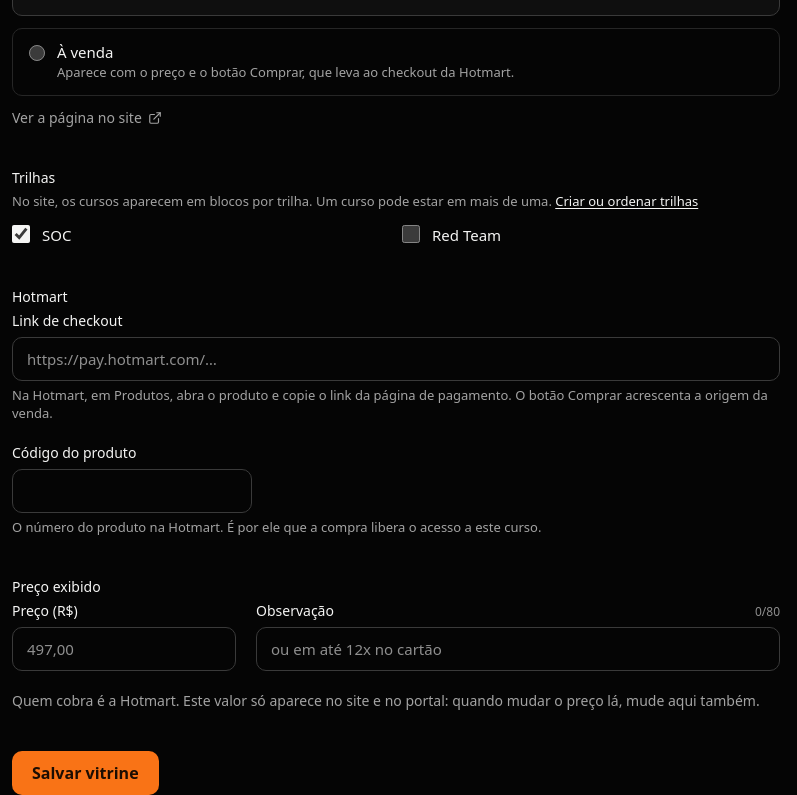
vitrine no painel › mostra o erro do banco na voz do painel
(page scrolled)
Click the button "Salvar vitrine" at coordinates (85, 773), box x1=12 y1=751 x2=159 y2=794
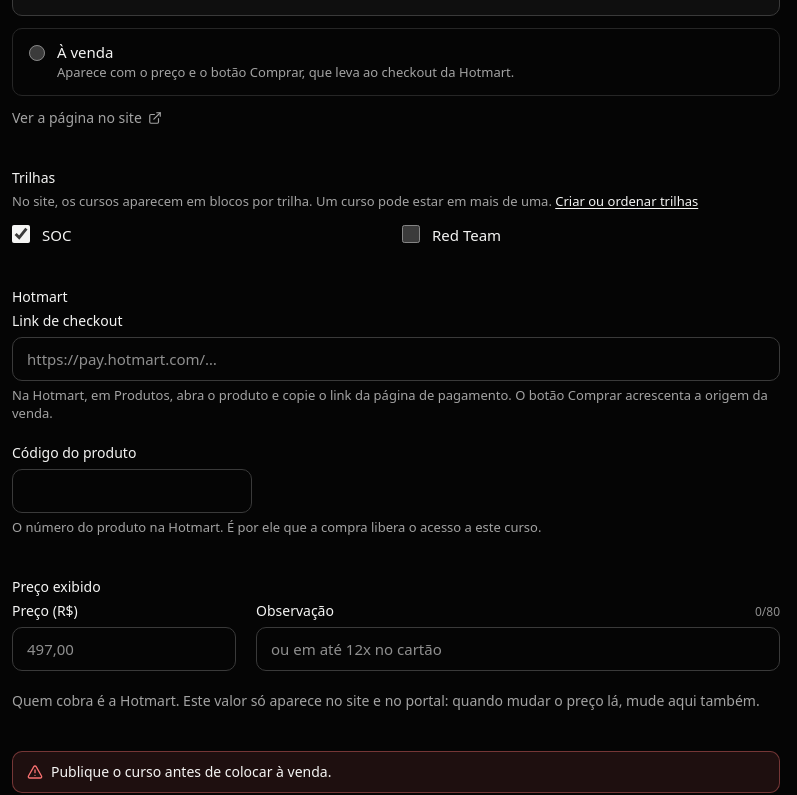
Now the message reads "Publique o curso antes de colocar à venda.", box x1=51 y1=762 x2=331 y2=781
